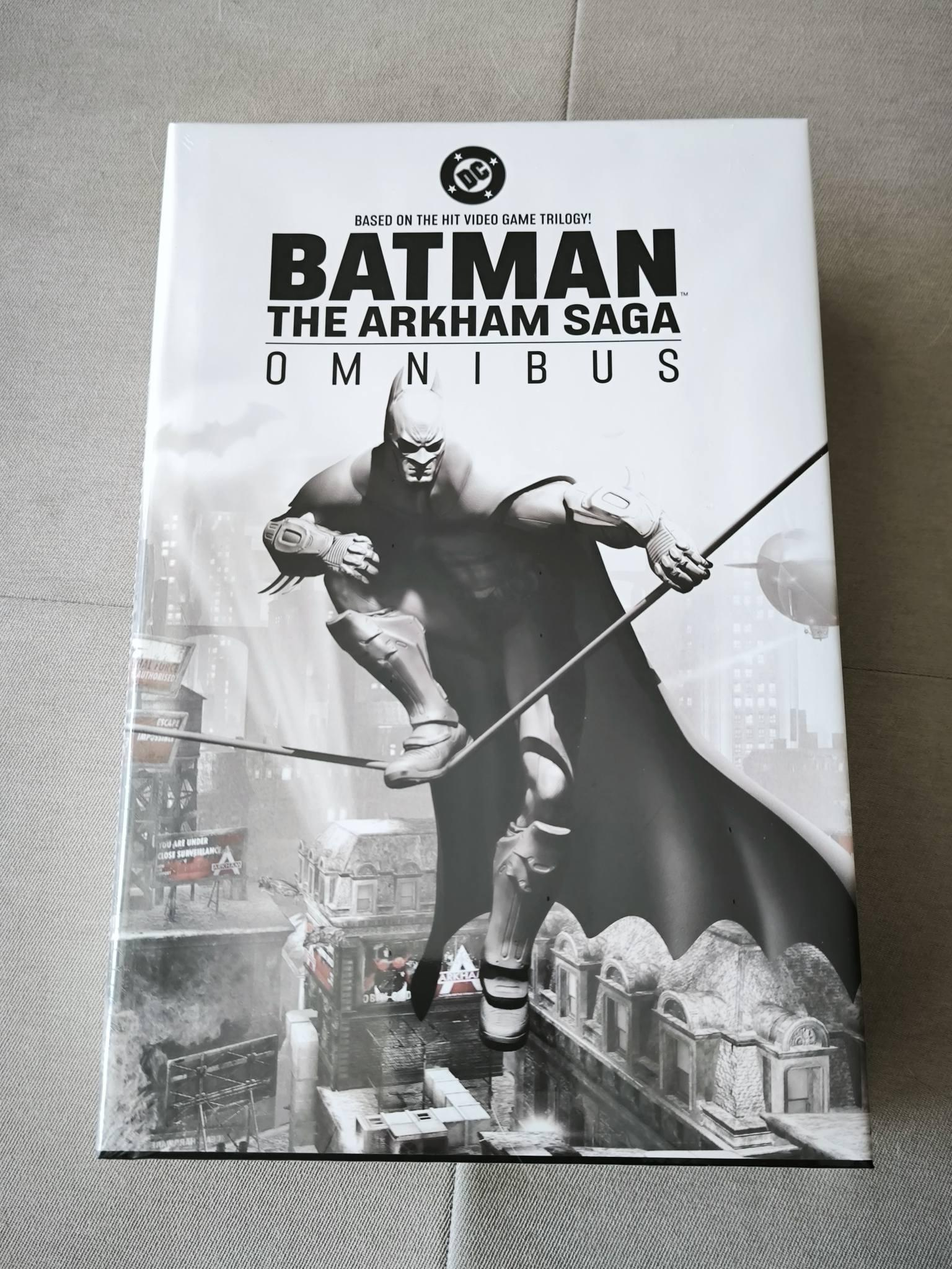comic: (94, 120, 868, 1167)
